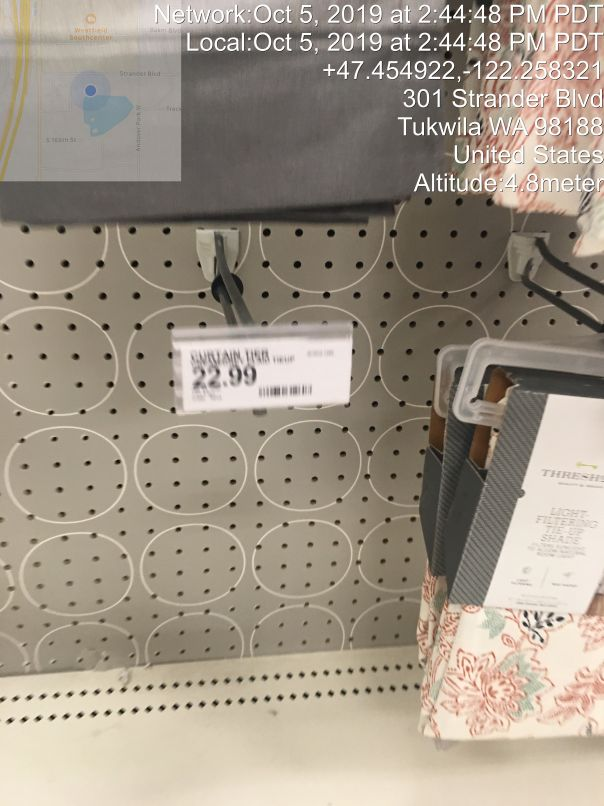Label: (166, 319, 364, 420)
Location: (390, 85, 604, 171)
Time: (149, 2, 604, 58)
Void: (124, 351, 387, 765)
